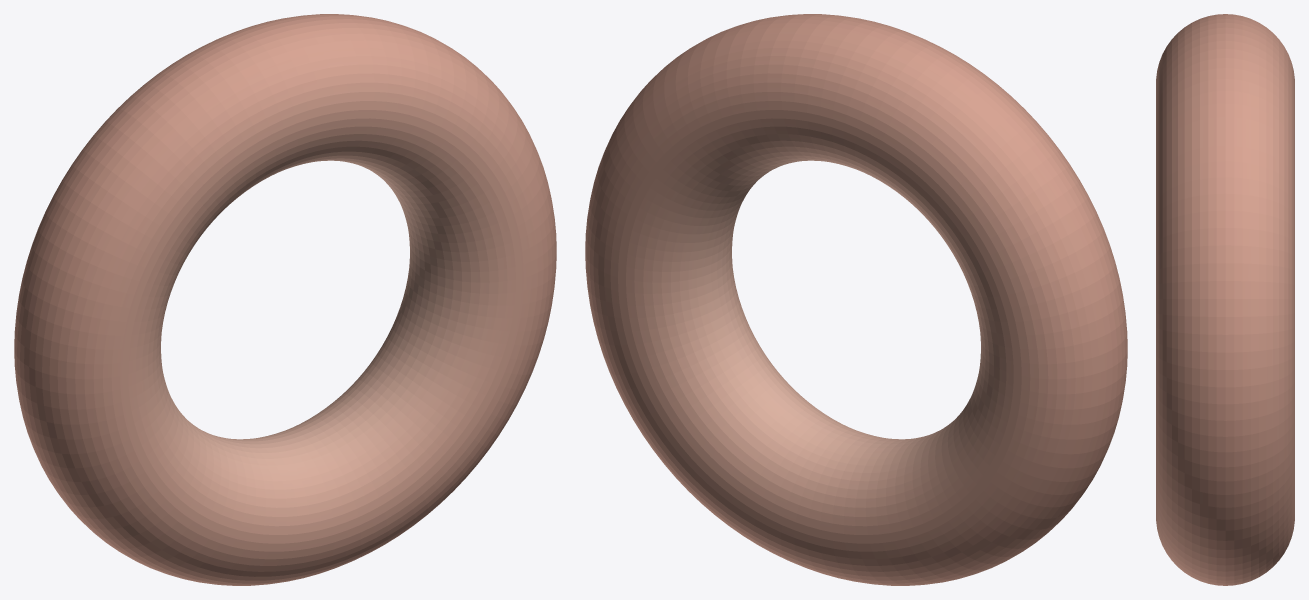
3 renders of one model, left to right at view 1: azimuth 30°, elevation 25°; view 2: azimuth 150°, elevation 25°; view 3: azimuth 270°, elevation 25°, orthographic. The views are drawn at different scales.
Parts seen in each view (by area): view 1: world; view 2: world; view 3: world.
Boxes of the visible parts, x1=… form: world: x1=14, y1=14, x2=556, y2=585; world: x1=585, y1=14, x2=1127, y2=585; world: x1=1156, y1=14, x2=1294, y2=585.
Bounding box in the file's own units: 29.07 × 29.07 × 7.05.
